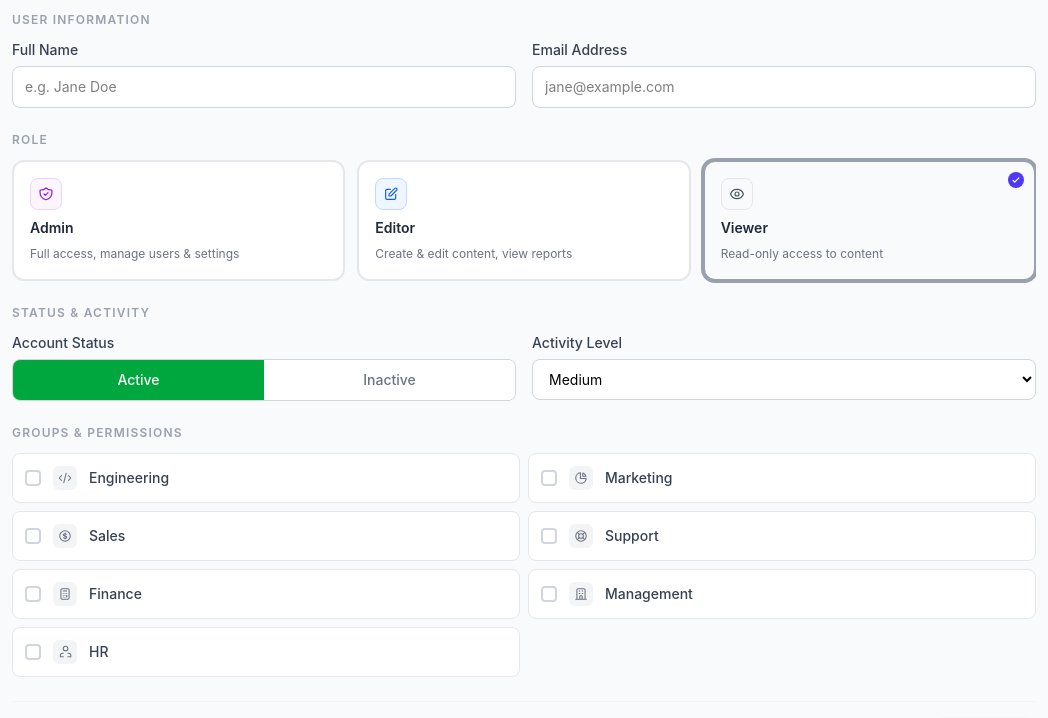
Test: Groups & Permissions › unchecks a group when clicked again
This screenshot has width=1048, height=718.
What coordinates should you click on to do the following:
click the text "Engineering"
I would click on:
 (129, 478)
Its box is [89,468,169,488].
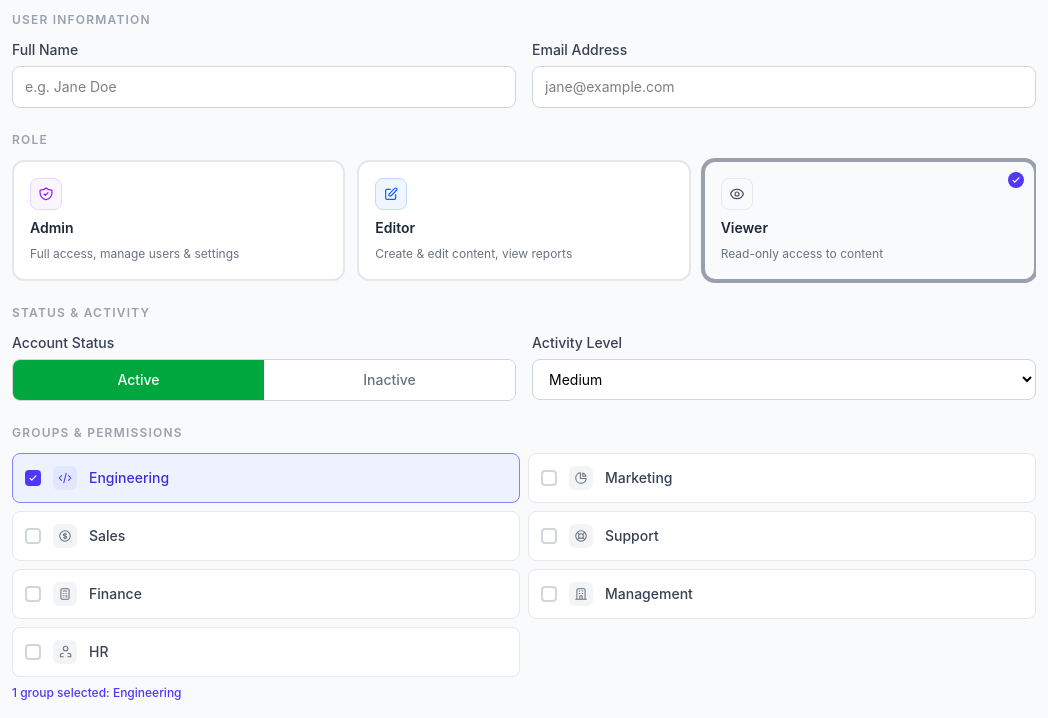
What coordinates should you click on to do the following:
click the text "Engineering"
I would click on:
 (129, 478)
Its box is [89,468,169,488].
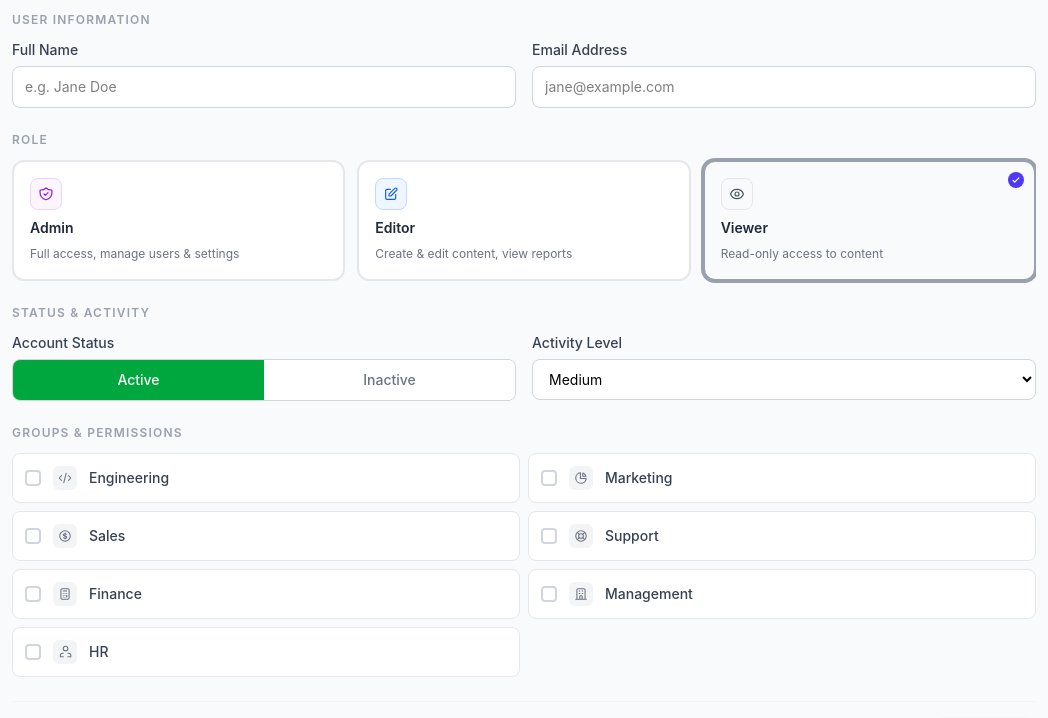
Expected: the checkbox labelled "Engineering" is not checked, [12,452,520,502]
